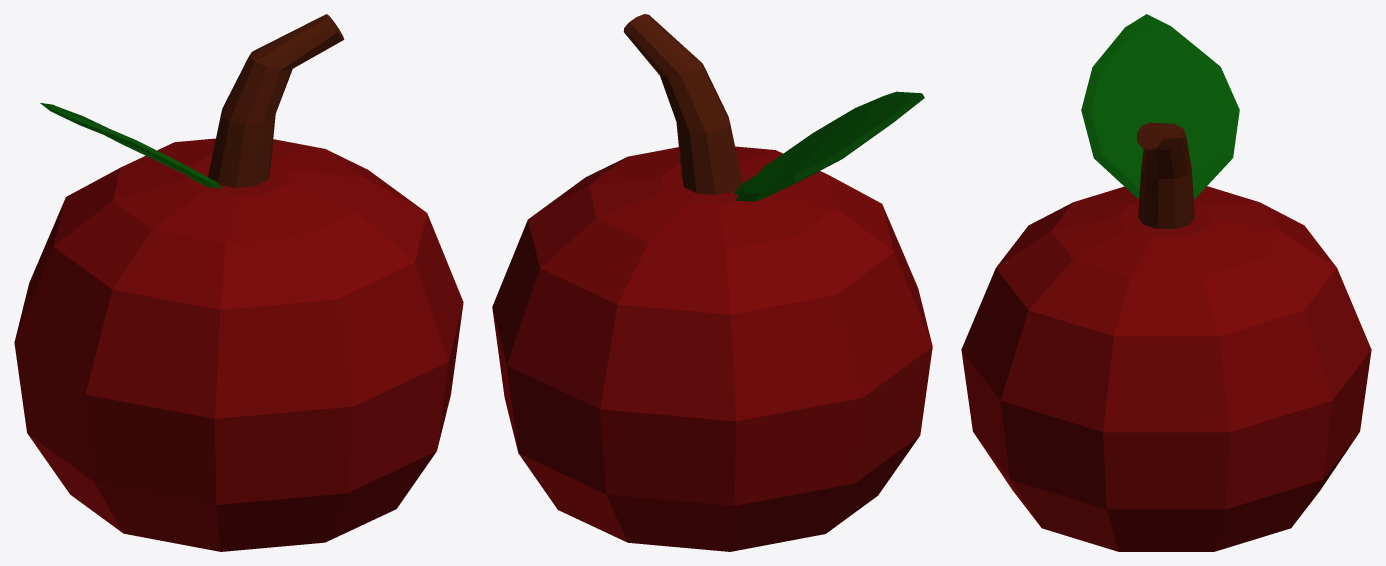
Rendered from appel.fbx.
3 views of the same model, side by side, from view 1: azimuth 30°, elevation 25°; view 2: azimuth 150°, elevation 25°; view 3: azimuth 270°, elevation 25° (orthographic). The views are drawn at different scales.
Visible parts, largest first — view 1: Cylinder; view 2: Cylinder; view 3: Cylinder.
Boxes of the visible parts, x1,y1,x2,y2 form: Cylinder: [14, 14, 463, 551]; Cylinder: [492, 14, 932, 551]; Cylinder: [961, 14, 1371, 551].
Size of the model in its own units: 0.1452 by 0.1698 by 0.1463.
